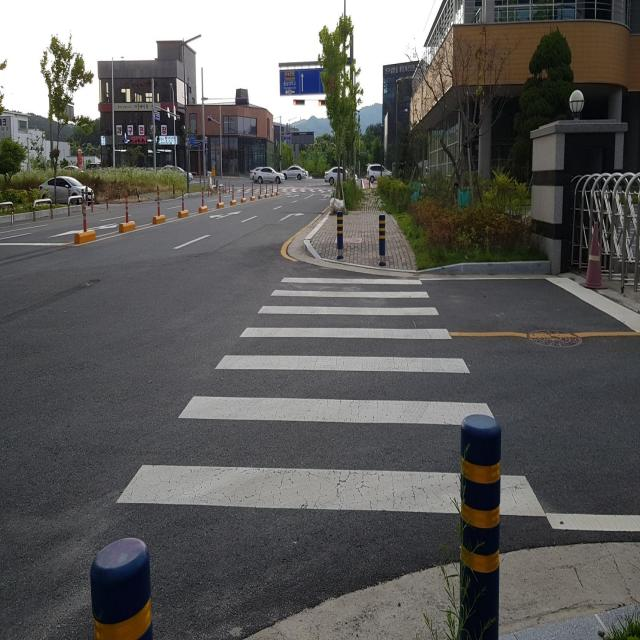횡단보도: (117, 277, 549, 522)
